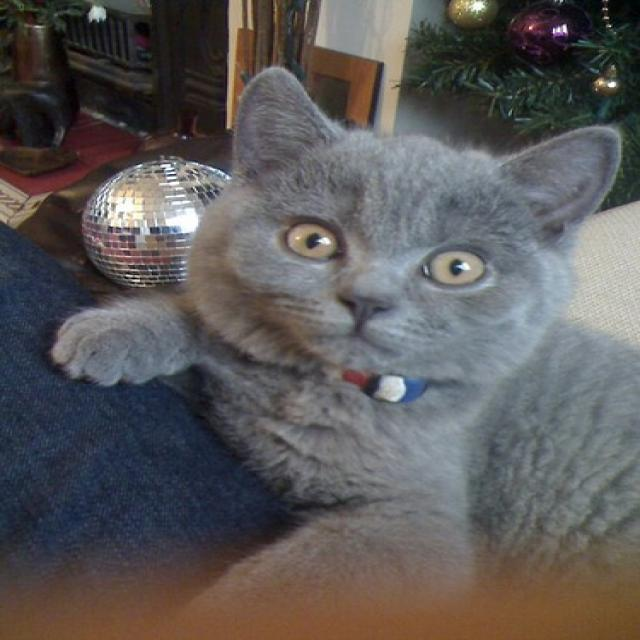British_Shorthair: (173, 67, 636, 405)
